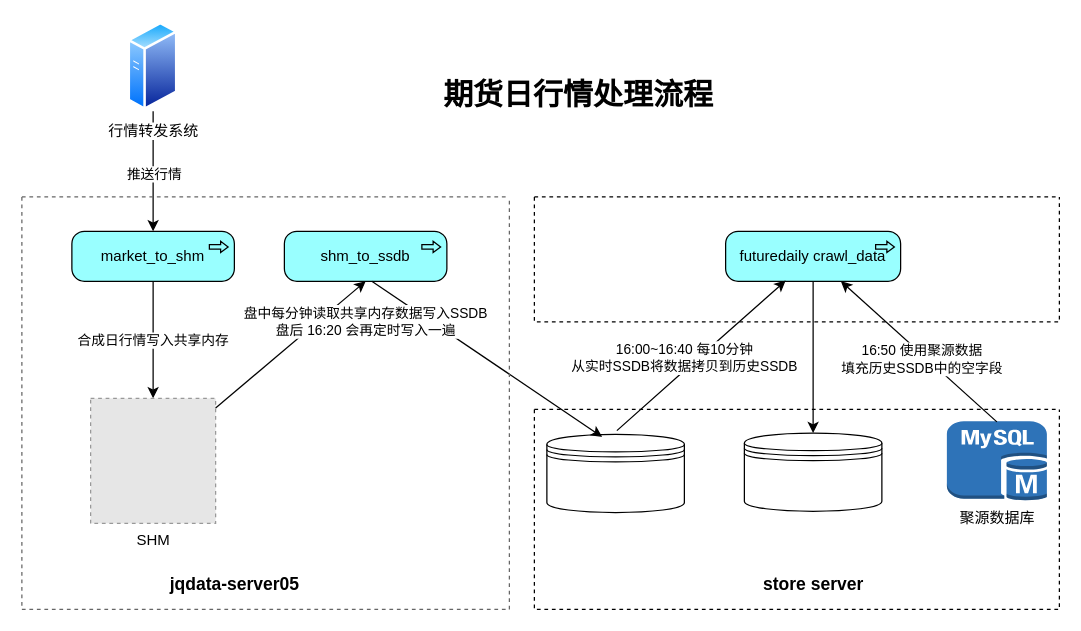
Some shapes in this 1081 by 631 pixel diagram are drawn without their labels. Grey dashed boxes stand in for pictures. The centre of each missing label's shape, as x and y in pixels:
dt-crawl00: (796,259)
History SSDB: (812,471)
RealTime SSDB: (615,472)
